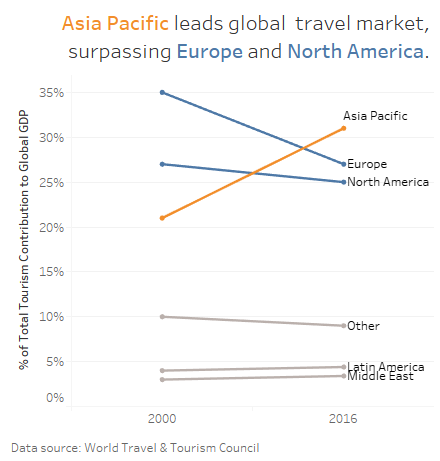

Layout of this report page (visuals, bound fields, positions):
{"tool":"tableau","page":{"name":"Dashboard 1","canvas":[450,480],"ordinal":0},"visuals":[{"type":"worksheet","title":"Slopegraph","mark":"Line","box":[8,8,434,430.5]},{"type":"text","box":[8,438.5,434,33.5]}]}

Visuals, with their boxes in screenshot pixels (x1, y1, x2, y2), scaled from the page's 450x480 canvas onto the 440x461 screenshot:
"Slopegraph" worksheet (Line marks): BBox(8, 8, 432, 421)
text: BBox(8, 421, 432, 453)
